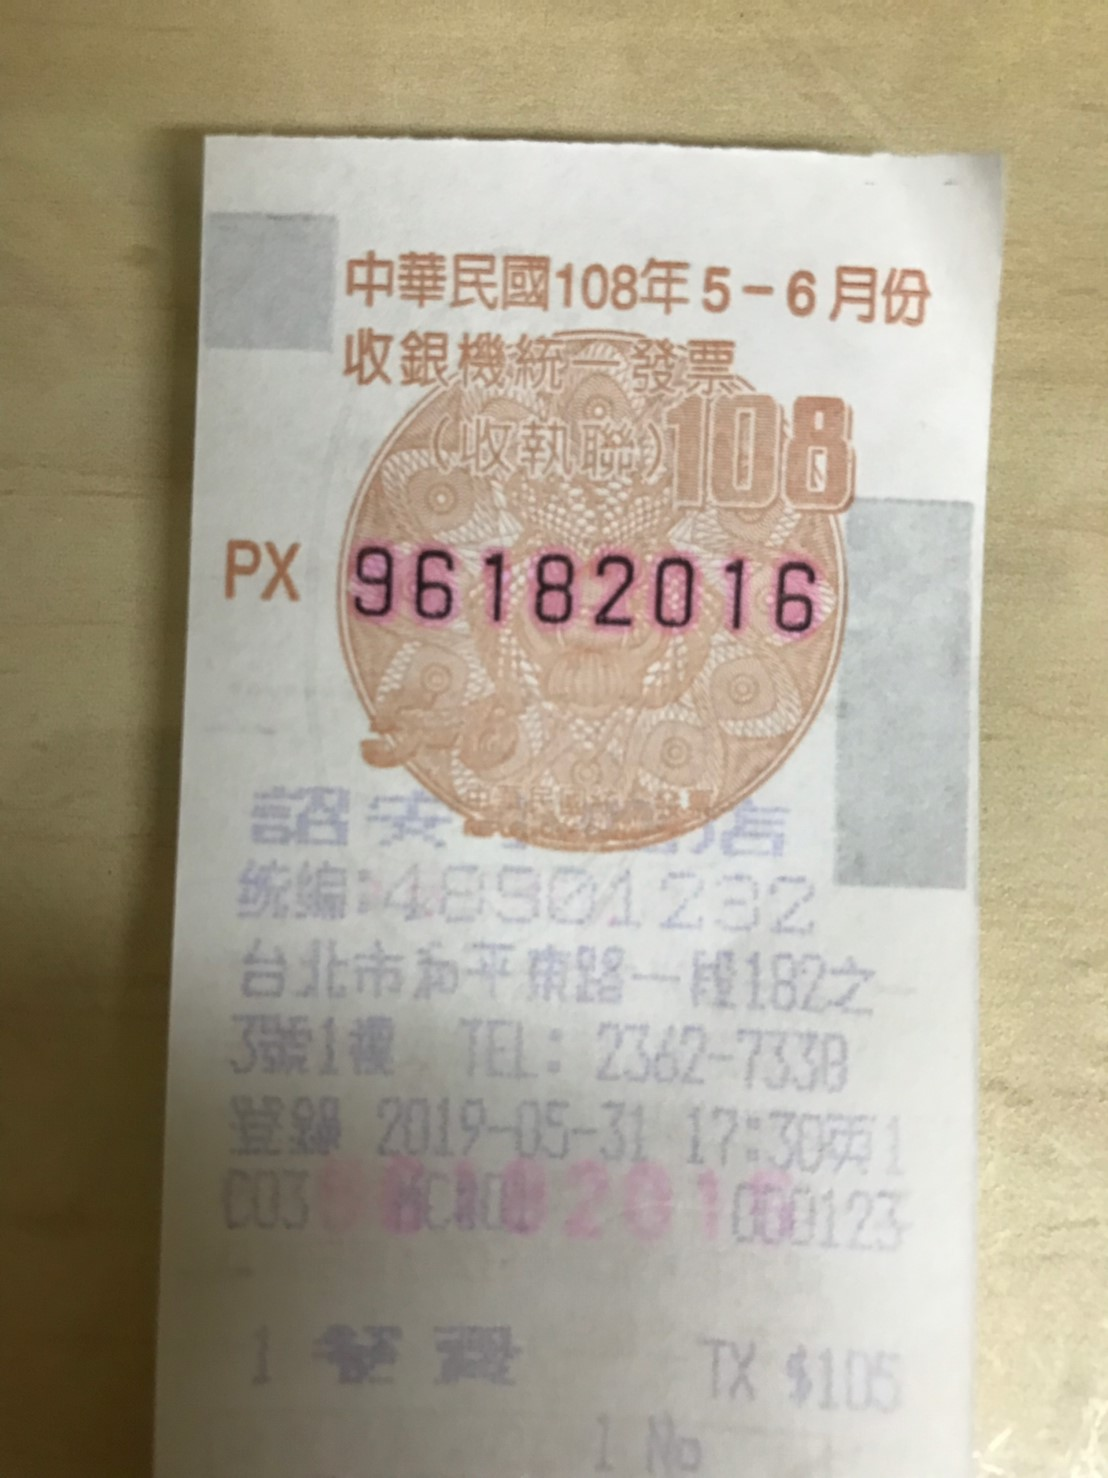Date_Old: (551, 253, 940, 329)
Number_Old: (347, 539, 823, 644)
